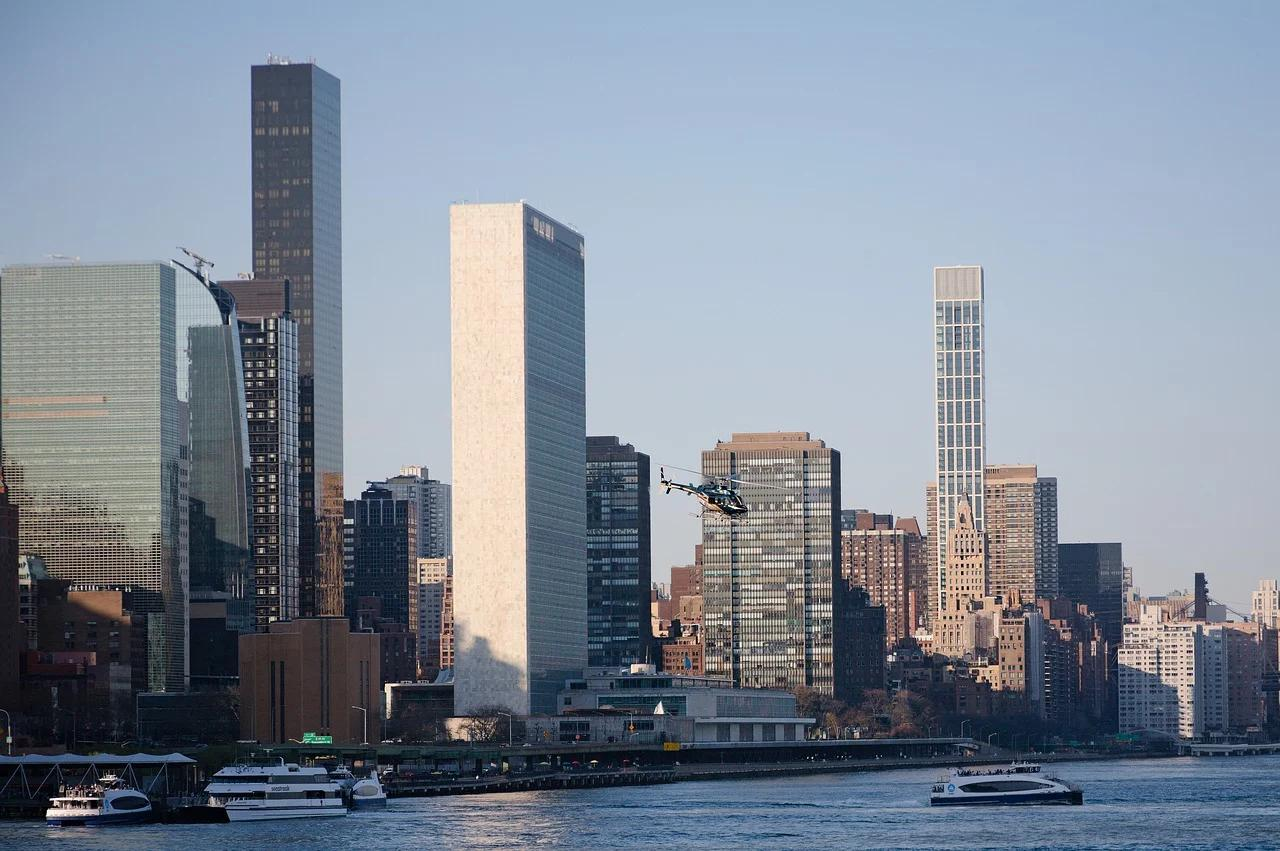Ship: (206, 764, 349, 824), (931, 764, 1084, 809), (46, 776, 154, 826)
